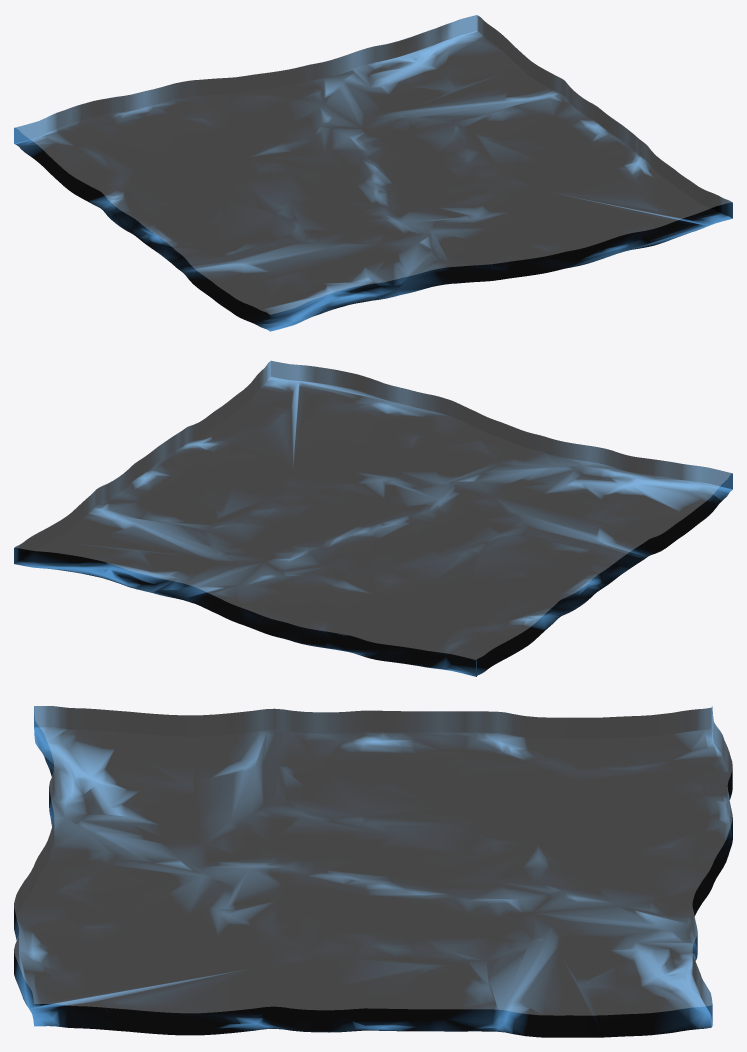
File: oceanbake.glb
The picture shows the model from 3 angles, top to bottom: view 1: azimuth 30°, elevation 25°; view 2: azimuth 150°, elevation 25°; view 3: azimuth 270°, elevation 25°; orthographic projection. The views are drawn at different scales.
Visible parts, largest first — view 1: Plane.001, Plane; view 2: Plane.001, Plane; view 3: Plane.001, Plane.
Part boxes in pixels (bbox=[...]): Plane.001: bbox=[14, 15, 732, 331]; Plane: bbox=[15, 14, 731, 314]; Plane.001: bbox=[14, 360, 732, 676]; Plane: bbox=[15, 360, 731, 659]; Plane.001: bbox=[14, 706, 732, 1037]; Plane: bbox=[14, 705, 732, 1015].
Bounding box in the file's own units: 1000 × 56.82 × 1000.
Materials: 2 (1 with a texture image).
